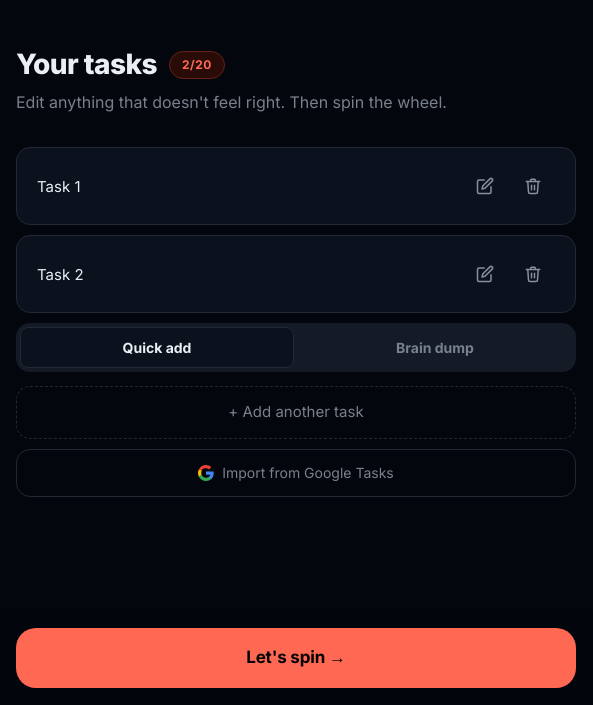
Test: ListEditScreen › the task list stays visible even in Brain dump mode (list is not behind the toggle)
Click the tab with test id "edit-mode-dump". click: (435, 348)
box: [298,327,572,368]
(page scrolled)
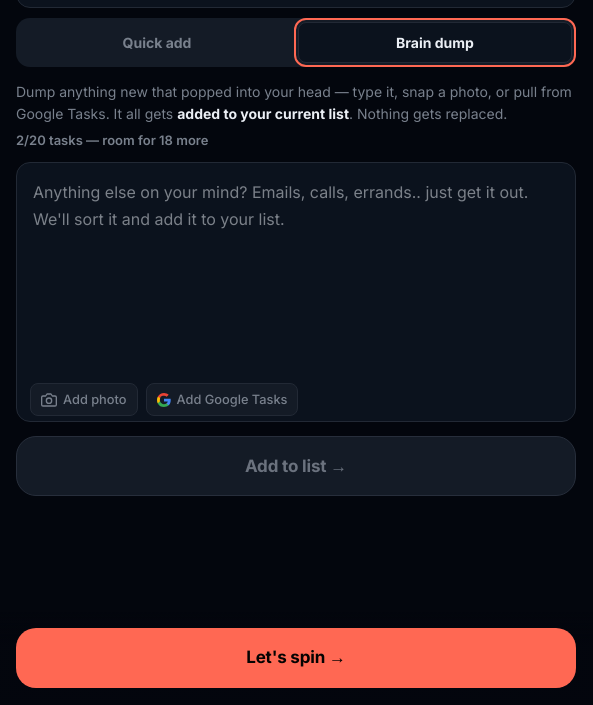
Result: the button with test id "brain-dump-submit" is shown at [16,436,576,496]
